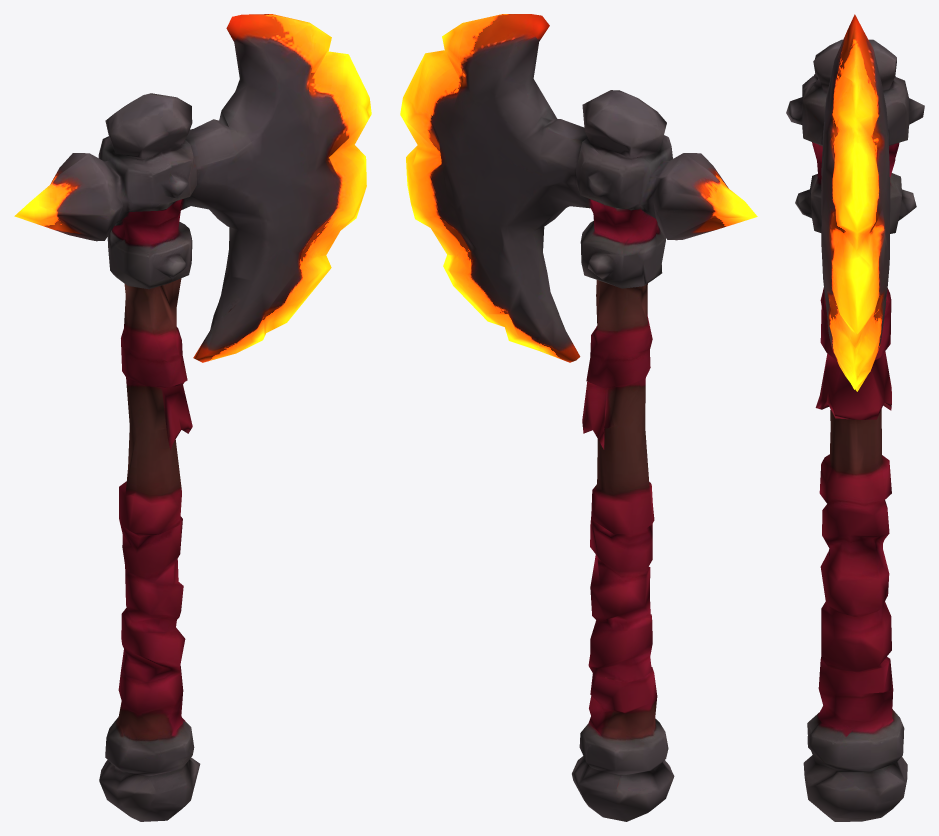
The model's file is Berserk_Axe-BKHNjxqD.glb.
3 renders of one model, left to right at view 1: azimuth 30°, elevation 25°; view 2: azimuth 150°, elevation 25°; view 3: azimuth 270°, elevation 25°, orthographic. The views are drawn at different scales.
Visible parts, largest first — view 1: tripo_node_d66b72a1-24db-4764-88d0-fefce3bf9143; view 2: tripo_node_d66b72a1-24db-4764-88d0-fefce3bf9143; view 3: tripo_node_d66b72a1-24db-4764-88d0-fefce3bf9143.
Boxes of the visible parts, box(x1,y1,x2,y2) form: tripo_node_d66b72a1-24db-4764-88d0-fefce3bf9143: box(14, 14, 371, 821); tripo_node_d66b72a1-24db-4764-88d0-fefce3bf9143: box(400, 14, 757, 821); tripo_node_d66b72a1-24db-4764-88d0-fefce3bf9143: box(786, 14, 924, 821).
Bounding box in the file's own units: 0.8165 × 1.7 × 0.2526.
1 material, 1 textured.
